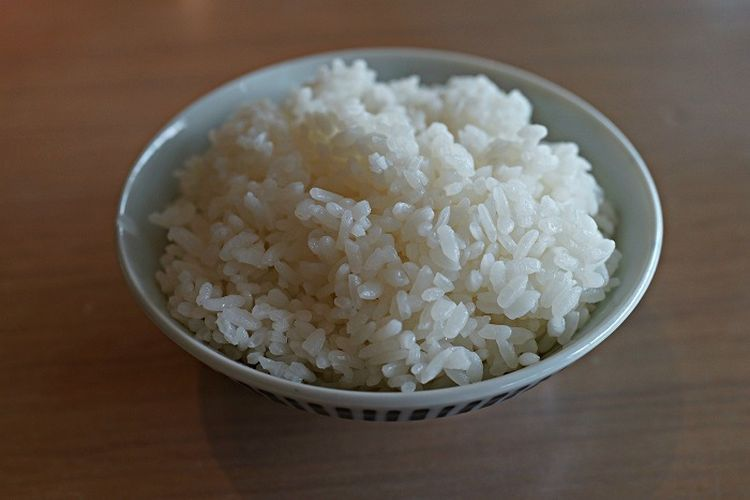Nasi Putih: (94, 56, 638, 391)
